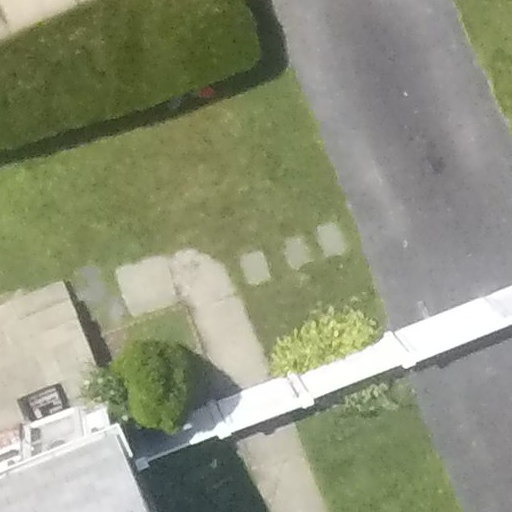fence: (135, 282, 512, 482)
